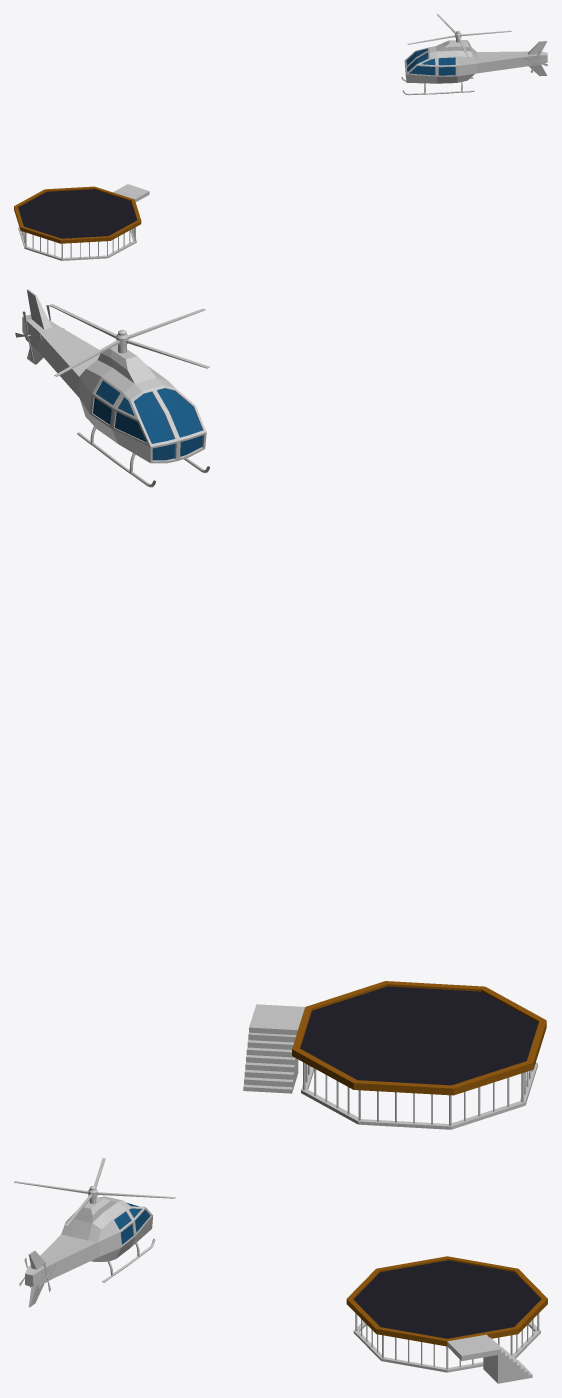
File: copter_000142.obj
3 renders of one model, top to bottom at view 1: azimuth 30°, elevation 25°; view 2: azimuth 150°, elevation 25°; view 3: azimuth 270°, elevation 25°, orthographic. The views are drawn at different scales.
Visible parts, largest first — view 1: Cylinder.001_Cylinder.012, Helicopter.007_Cylinder.008, Helicopter.001_Cylinder.001; view 2: Cylinder.001_Cylinder.012, Helicopter.007_Cylinder.008, Helicopter.001_Cylinder.001; view 3: Cylinder.001_Cylinder.012, Helicopter.007_Cylinder.008, Helicopter.001_Cylinder.001.
Boxes of the visible parts, x1,y1,x2,y2 form: Cylinder.001_Cylinder.012: (14,184,149,260); Helicopter.007_Cylinder.008: (401,40,547,95); Helicopter.001_Cylinder.001: (407,14,511,58); Cylinder.001_Cylinder.012: (243,981,546,1129); Helicopter.007_Cylinder.008: (22,289,209,487); Helicopter.001_Cylinder.001: (49,304,209,376); Cylinder.001_Cylinder.012: (346,1256,547,1383); Helicopter.007_Cylinder.008: (25,1196,155,1307); Helicopter.001_Cylinder.001: (14,1158,175,1226).
Size of the model in its own units: 23.31 by 12.76 by 17.96.
